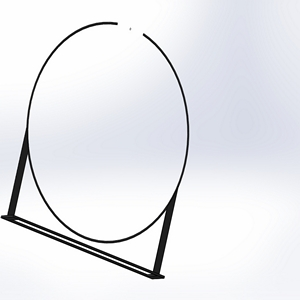circle: (2, 20, 192, 281)
